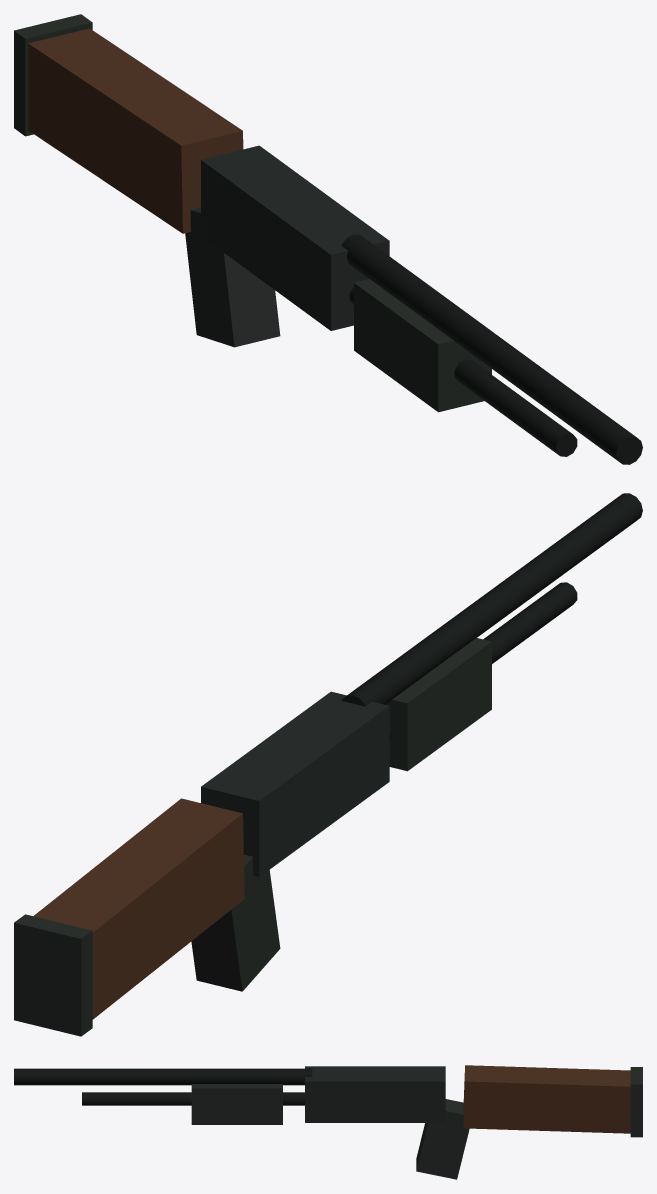
File: shotgun.glb
The picture shows the model from 3 angles, top to bottom: view 1: azimuth 30°, elevation 25°; view 2: azimuth 150°, elevation 25°; view 3: azimuth 270°, elevation 25°; orthographic projection. The views are drawn at different scales.
Visible parts, largest first — view 1: shotgun-stock, shotgun-receiver, shotgun-barrel, shotgun-pump, shotgun-grip, shotgun-magazine-tube, shotgun-butt; view 2: shotgun-stock, shotgun-receiver, shotgun-barrel, shotgun-butt, shotgun-pump, shotgun-grip, shotgun-magazine-tube; view 3: shotgun-stock, shotgun-receiver, shotgun-barrel, shotgun-pump, shotgun-grip, shotgun-magazine-tube, shotgun-butt.
Part boxes in pixels (x1,y1,x2,y2): shotgun-stock: (28,28,243,233); shotgun-receiver: (201,145,389,330); shotgun-barrel: (341,234,642,464); shotgun-pump: (354,279,491,412); shotgun-grip: (185,207,280,347); shotgun-magazine-tube: (349,286,577,456); shotgun-butt: (14,14,92,136); shotgun-stock: (33,798,244,1019); shotgun-receiver: (201,691,389,876); shotgun-barrel: (341,493,642,706); shotgun-butt: (14,914,92,1036); shotgun-pump: (385,638,491,771); shotgun-grip: (191,854,280,991); shotgun-magazine-tube: (389,582,577,737); shotgun-stock: (463,1065,630,1133); shotgun-receiver: (305,1066,445,1122); shotgun-barrel: (14,1068,312,1085); shotgun-pump: (191,1084,282,1124); shotgun-grip: (416,1099,469,1179); shotgun-magazine-tube: (82,1092,304,1105); shotgun-butt: (630,1067,642,1137).
Size of the model in its own units: 0.085 by 0.233 by 1.28.
